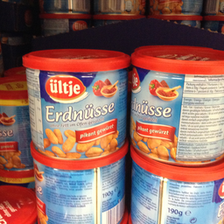nuts: (22, 48, 131, 161), (130, 45, 224, 167), (30, 142, 130, 224), (129, 146, 223, 224)
